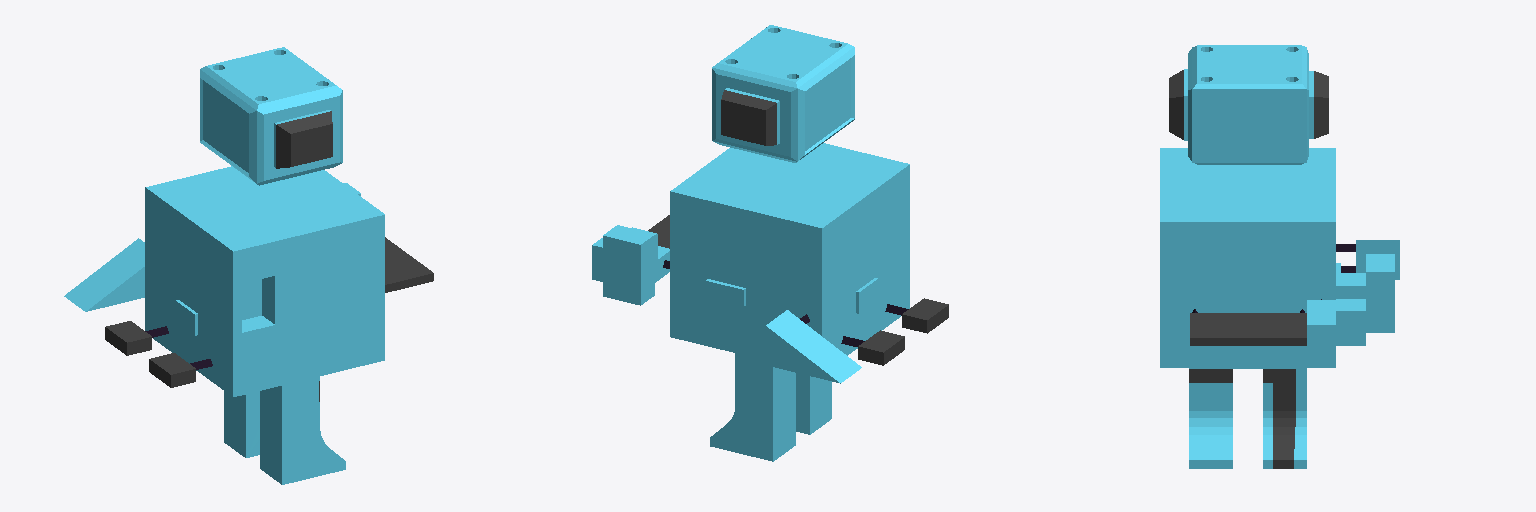
File: MachineBoss.obj
The picture shows the model from 3 angles: view 1: azimuth 30°, elevation 25°; view 2: azimuth 150°, elevation 25°; view 3: azimuth 270°, elevation 25°; orthographic projection.
Visible parts, largest first — view 1: BossCollision_BossMainHigh.001; view 2: BossCollision_BossMainHigh.001; view 3: BossCollision_BossMainHigh.001.
Part boxes in pixels (left/top/right/bottom): BossCollision_BossMainHigh.001: left=64, top=47, right=433, bottom=484; BossCollision_BossMainHigh.001: left=592, top=25, right=948, bottom=461; BossCollision_BossMainHigh.001: left=1160, top=45, right=1399, bottom=468.
Bounding box in the file's own units: 4926 × 6769 × 3829.